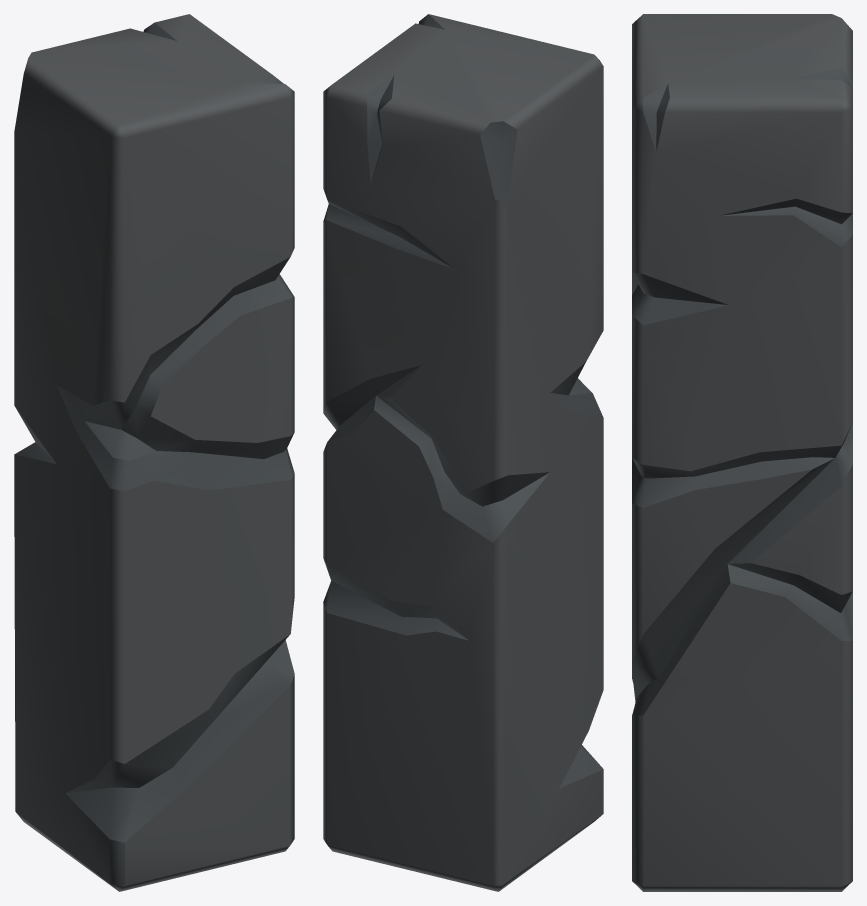
Rendered from pillar_001.glb.
The picture shows the model from 3 angles, left to right: view 1: azimuth 30°, elevation 25°; view 2: azimuth 150°, elevation 25°; view 3: azimuth 270°, elevation 25°; orthographic projection. The views are drawn at different scales.
Parts seen in each view (by area): view 1: pillar_001; view 2: pillar_001; view 3: pillar_001.
Part boxes in pixels (x1,y1,x2,y2): pillar_001: (14,14,294,891); pillar_001: (323,14,603,891); pillar_001: (632,14,852,891).
Bounding box in the file's own units: 2 × 7.94 × 2.
Materials: 1 (1 with a texture image).
